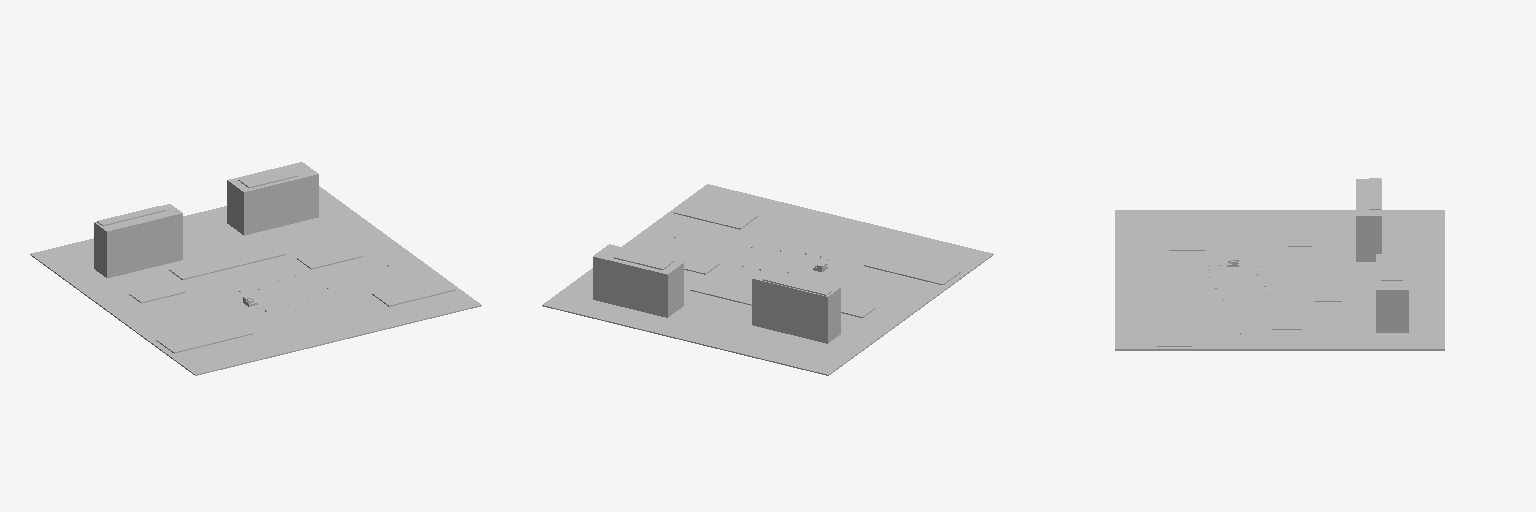
File: escenario.obj
The picture shows the model from 3 angles: view 1: azimuth 30°, elevation 25°; view 2: azimuth 150°, elevation 25°; view 3: azimuth 270°, elevation 25°; orthographic projection.
Visible parts, largest first — view 1: object 1; view 2: object 1; view 3: object 1.
Part boxes in pixels (x1,y1,x2,y2): object 1: (30,162,481,375); object 1: (542,184,993,375); object 1: (1115,178,1444,350).
Size of the model in its own units: 25.6 by 4.2 by 25.6.